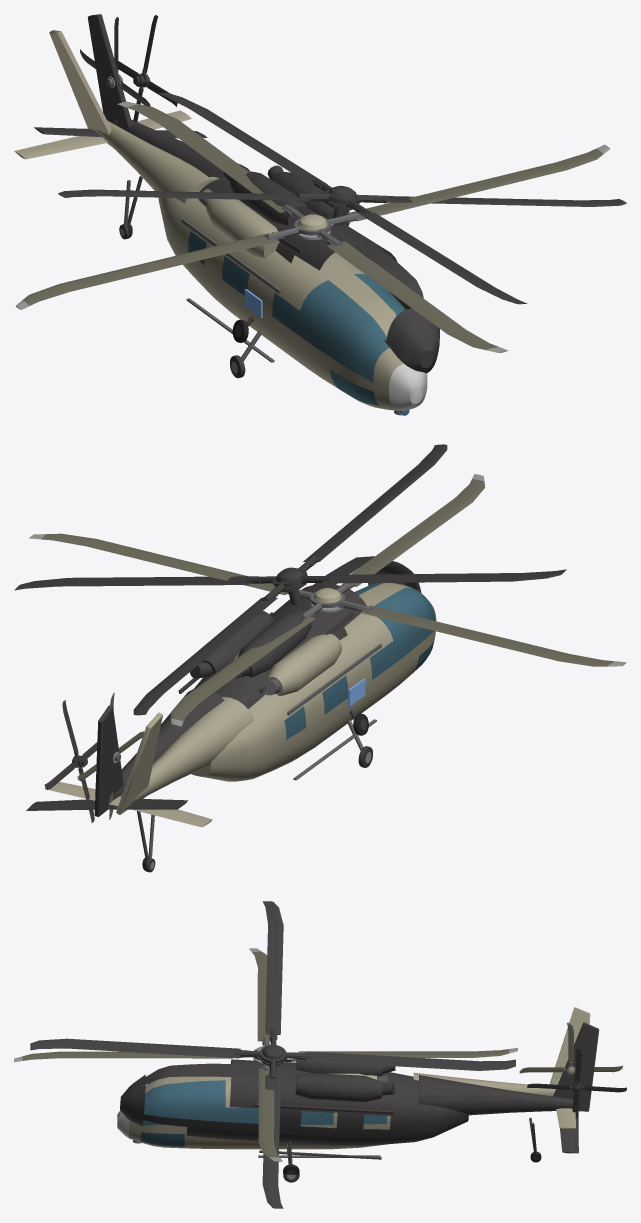
File: helicopter__uh_60m.glb
3 views of the same model, one above another, from view 1: azimuth 30°, elevation 25°; view 2: azimuth 150°, elevation 25°; view 3: azimuth 270°, elevation 25° (orthographic). The views are drawn at different scales.
Parts seen in each view (by area): view 1: Fuselage_Mesh, Wreck, Rotor_Main_Mesh, Engines_Mesh, Landing_Gear_Mesh, Rotor_Tail_Mesh; view 2: Fuselage_Mesh, Wreck, Rotor_Main_Mesh, Engines_Mesh, Landing_Gear_Mesh; view 3: Wreck, Fuselage_Mesh, Rotor_Main_Mesh, Rotor_Tail_Mesh.
Boxes of the visible parts, bbox=[...] form: Fuselage_Mesh: bbox=[14, 30, 427, 415]; Wreck: bbox=[34, 14, 626, 373]; Rotor_Main_Mesh: bbox=[16, 101, 610, 352]; Engines_Mesh: bbox=[198, 189, 279, 258]; Landing_Gear_Mesh: bbox=[119, 180, 261, 378]; Rotor_Tail_Mesh: bbox=[80, 16, 150, 125]; Fuselage_Mesh: bbox=[45, 583, 436, 827]; Wreck: bbox=[14, 444, 566, 870]; Rotor_Main_Mesh: bbox=[29, 474, 626, 726]; Engines_Mesh: bbox=[233, 633, 341, 696]; Landing_Gear_Mesh: bbox=[144, 719, 372, 872]; Wreck: bbox=[30, 901, 626, 1208]; Fuselage_Mesh: bbox=[117, 1007, 590, 1157]; Rotor_Main_Mesh: bbox=[14, 948, 517, 1161]; Rotor_Tail_Mesh: bbox=[519, 1022, 622, 1074].
Size of what is drawn, in the model's own units: 16.77 by 6.2 by 19.9.
